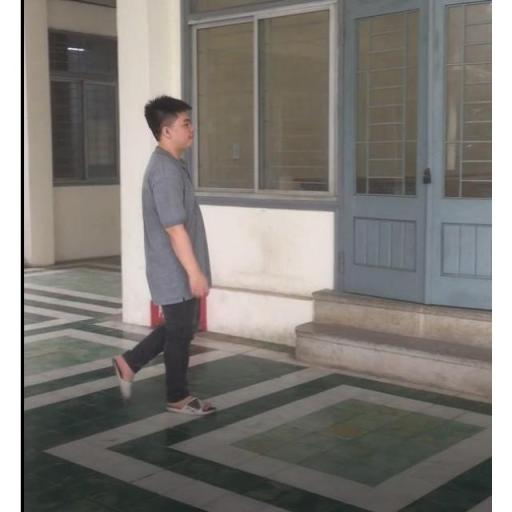Running: (99, 85, 227, 418)
